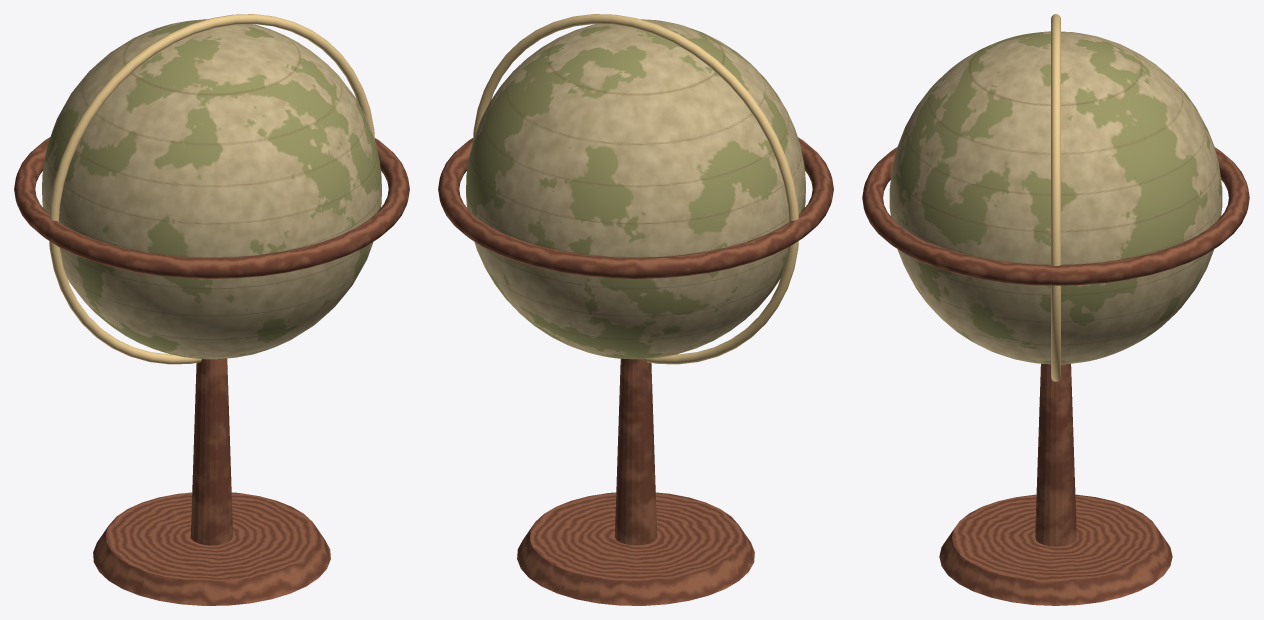
File: globe.glb
3 renders of one model, left to right at view 1: azimuth 30°, elevation 25°; view 2: azimuth 150°, elevation 25°; view 3: azimuth 270°, elevation 25°, orthographic. The views are drawn at different scales.
Parts seen in each view (by area): view 1: globe; view 2: globe; view 3: globe.
Boxes of the visible parts, left/top/right/bottom form: globe: left=14, top=14, right=409, bottom=605; globe: left=438, top=14, right=833, bottom=605; globe: left=862, top=14, right=1249, bottom=605.
Size of the model in its own units: 9.3 by 13.92 by 9.3.
Materials: 1 (1 with a texture image).
